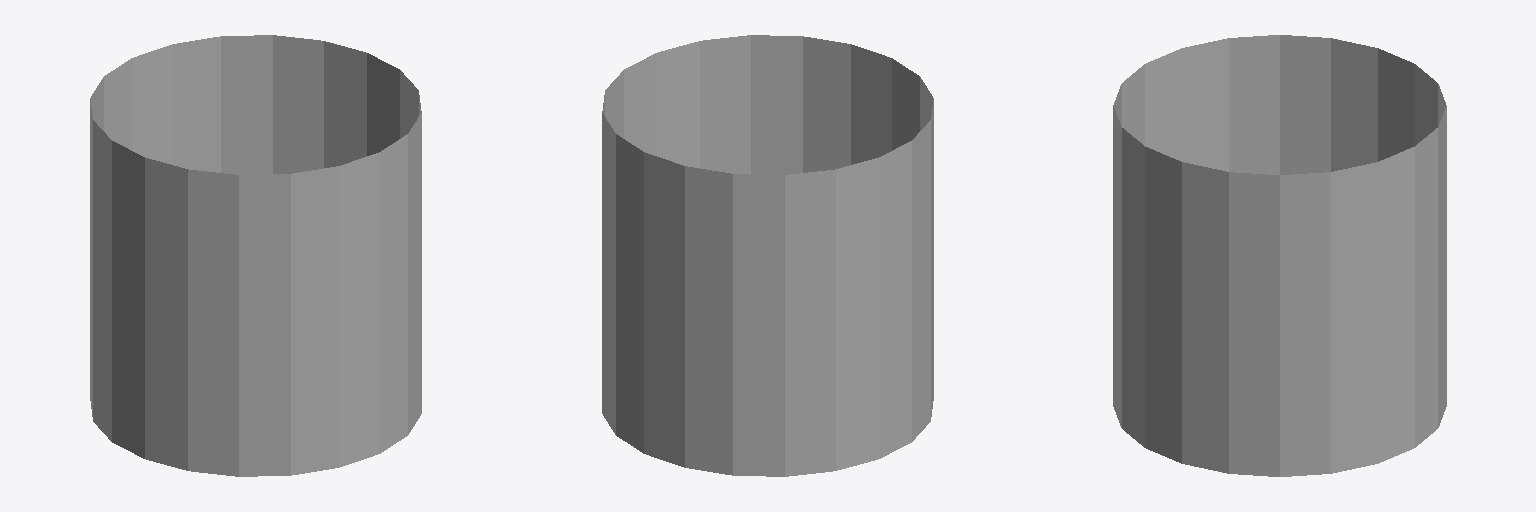
File: tunnel.obj
The picture shows the model from 3 angles: view 1: azimuth 30°, elevation 25°; view 2: azimuth 150°, elevation 25°; view 3: azimuth 270°, elevation 25°; orthographic projection.
Visible parts, largest first — view 1: pCylinder1; view 2: pCylinder1; view 3: pCylinder1.
Part boxes in pixels (x1,y1,x2,y2): pCylinder1: (90,35,421,476); pCylinder1: (602,35,933,476); pCylinder1: (1113,35,1446,476).
Size of the model in its own units: 2 by 2 by 2.